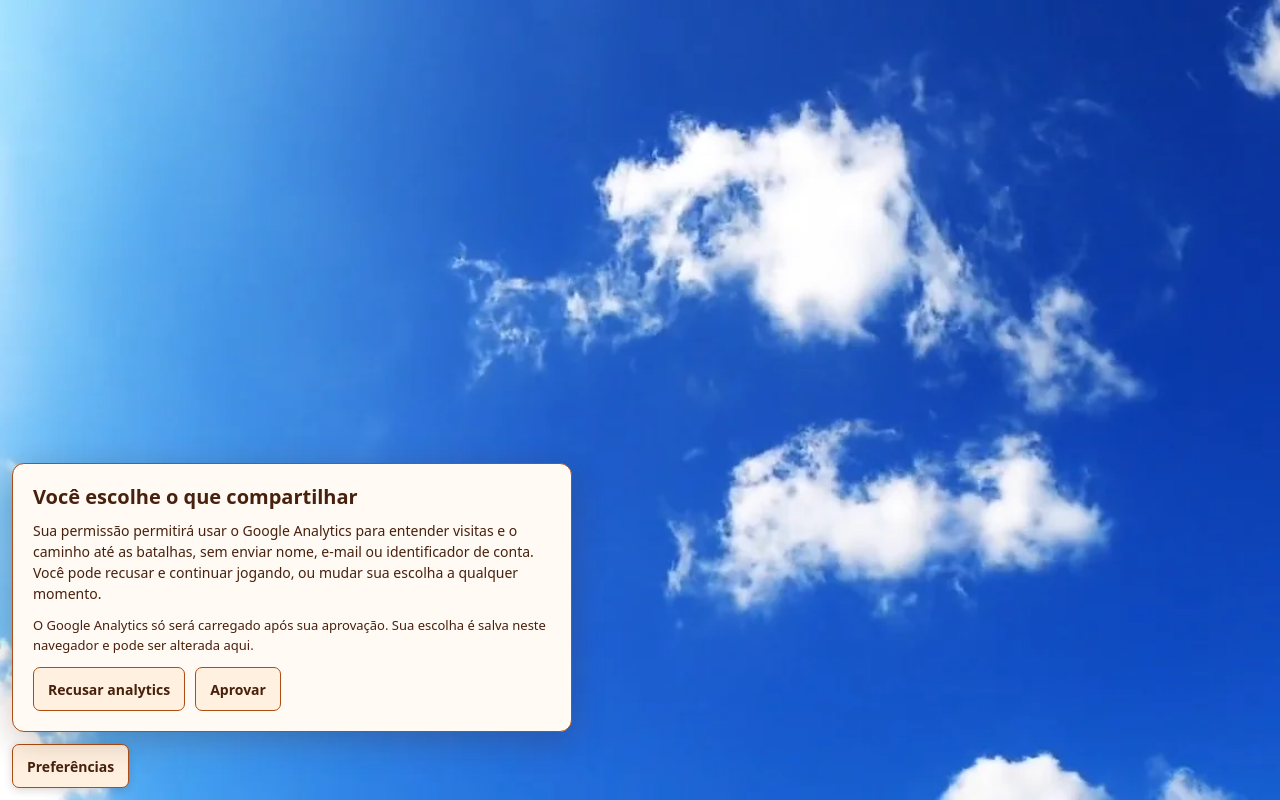
Test case: pede uma escolha para valor inválido e funciona quando o armazenamento falha
The width and height of the screenshot is (1280, 800).
Click the button "Recusar analytics" at (109, 689), box 33,667 -> 185,711
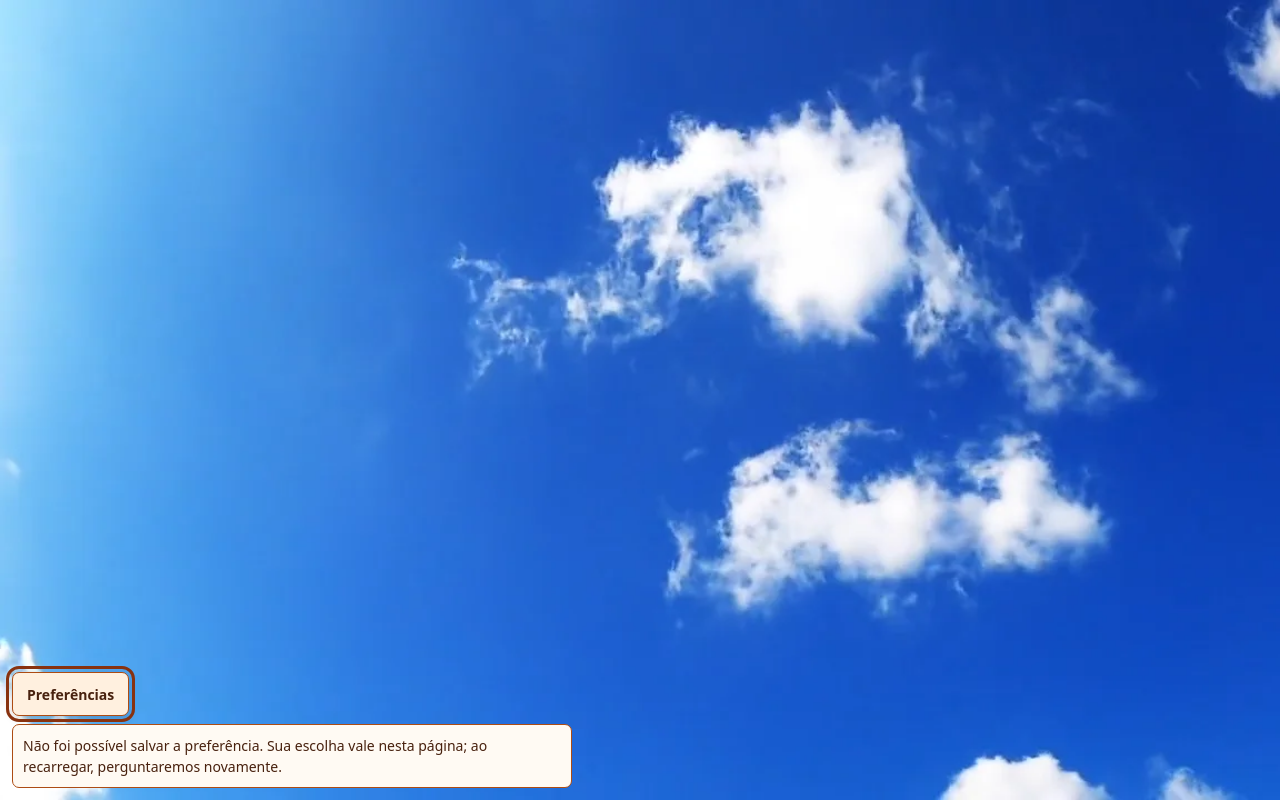
Check: the message shows "Não foi possível salvar", box 23,736 -> 487,776
Click the button "Preferências" at (71, 694), box 12,672 -> 129,716
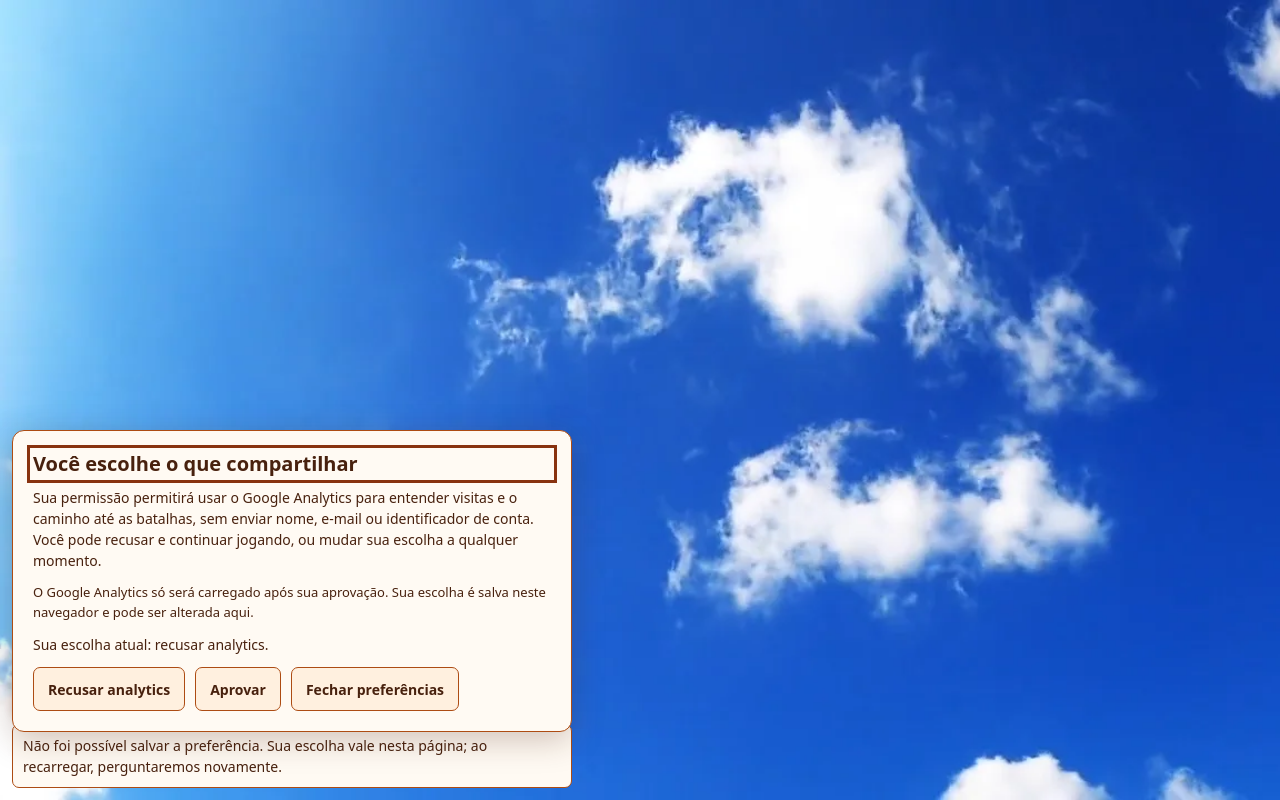
Check: the text "Sua escolha atual: recusar analytics." is shown, box 33,635 -> 268,654
